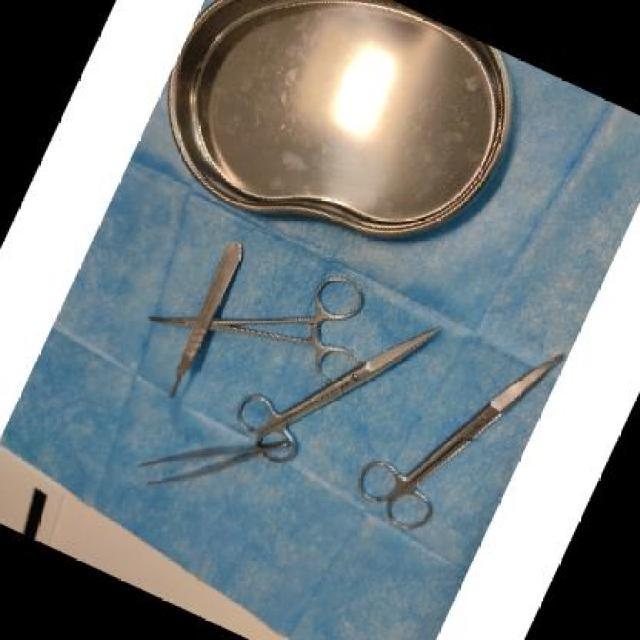tools_table: (99, 1, 580, 560)
